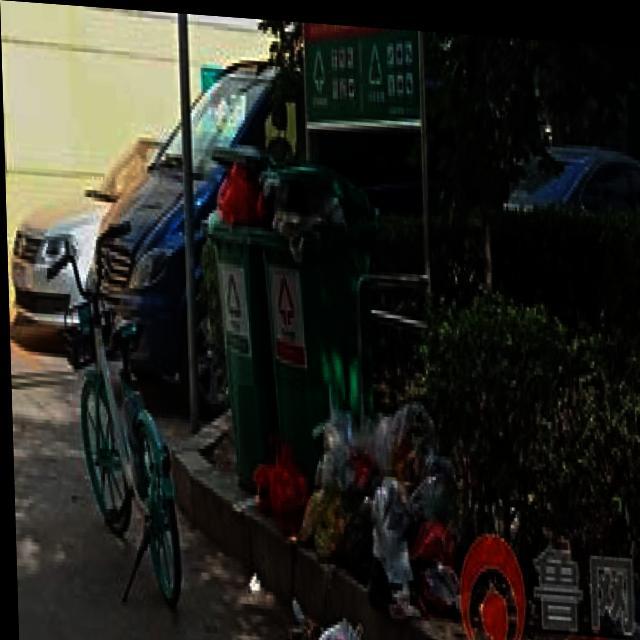garbage: (236, 381, 456, 640)
overflow: (245, 152, 381, 478), (202, 139, 276, 482)
